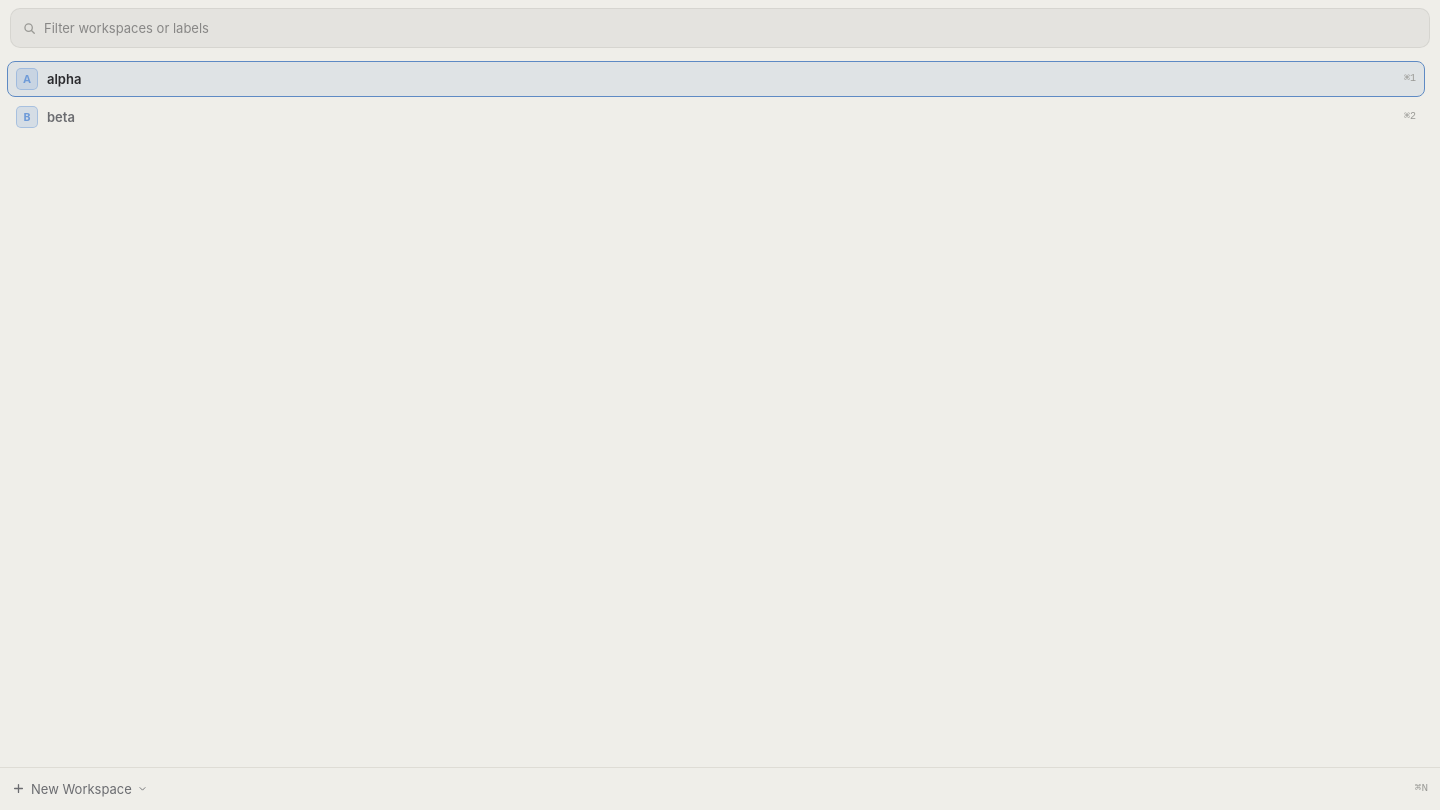
Test case: delete dialog worktree list › says so when the plan cannot be read
Right-click the option with test id "workspace-row" showing "A alpha ⌘1": (64, 79) 8,62 -> 1424,96
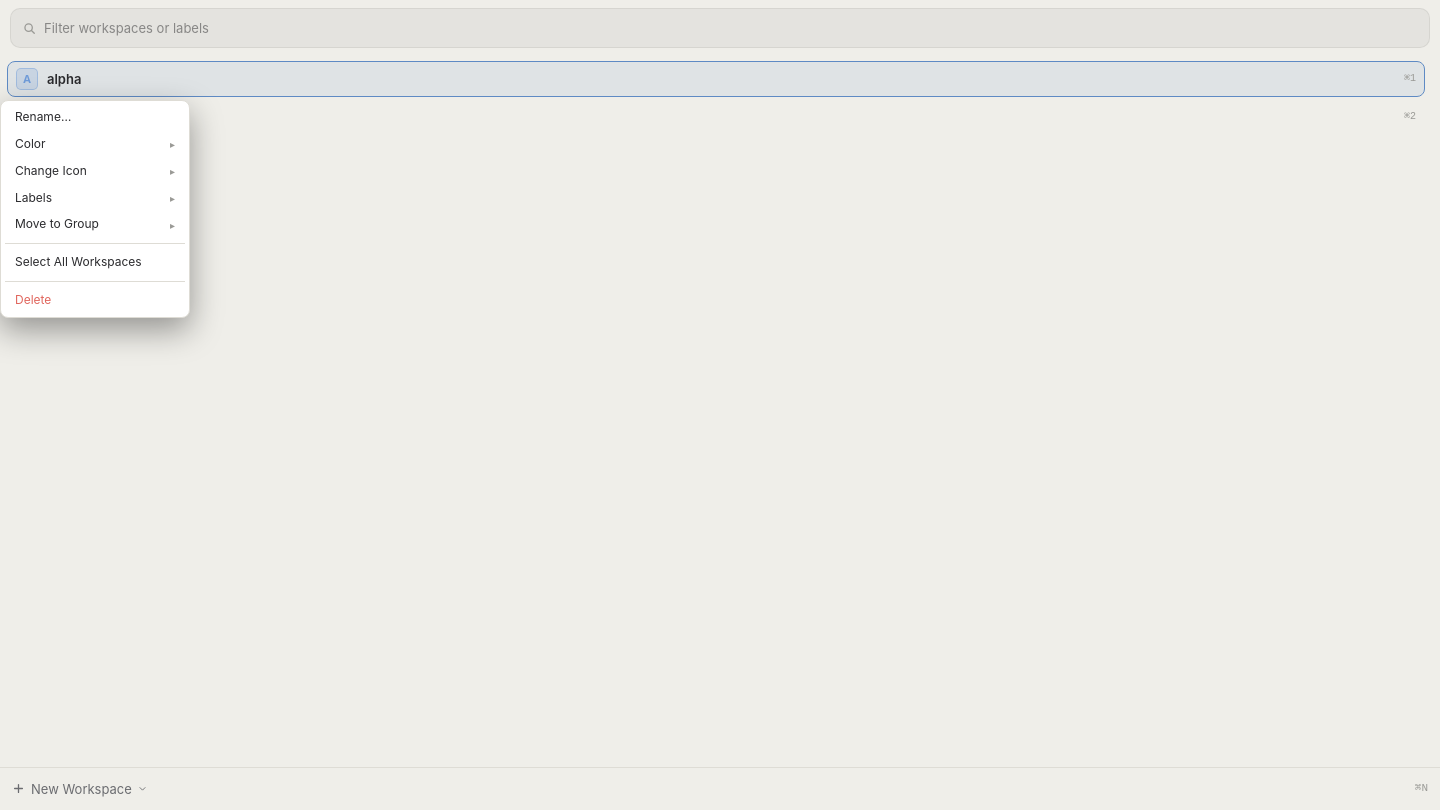
Click the menu item "Delete": (95, 300) 5,288 -> 185,313
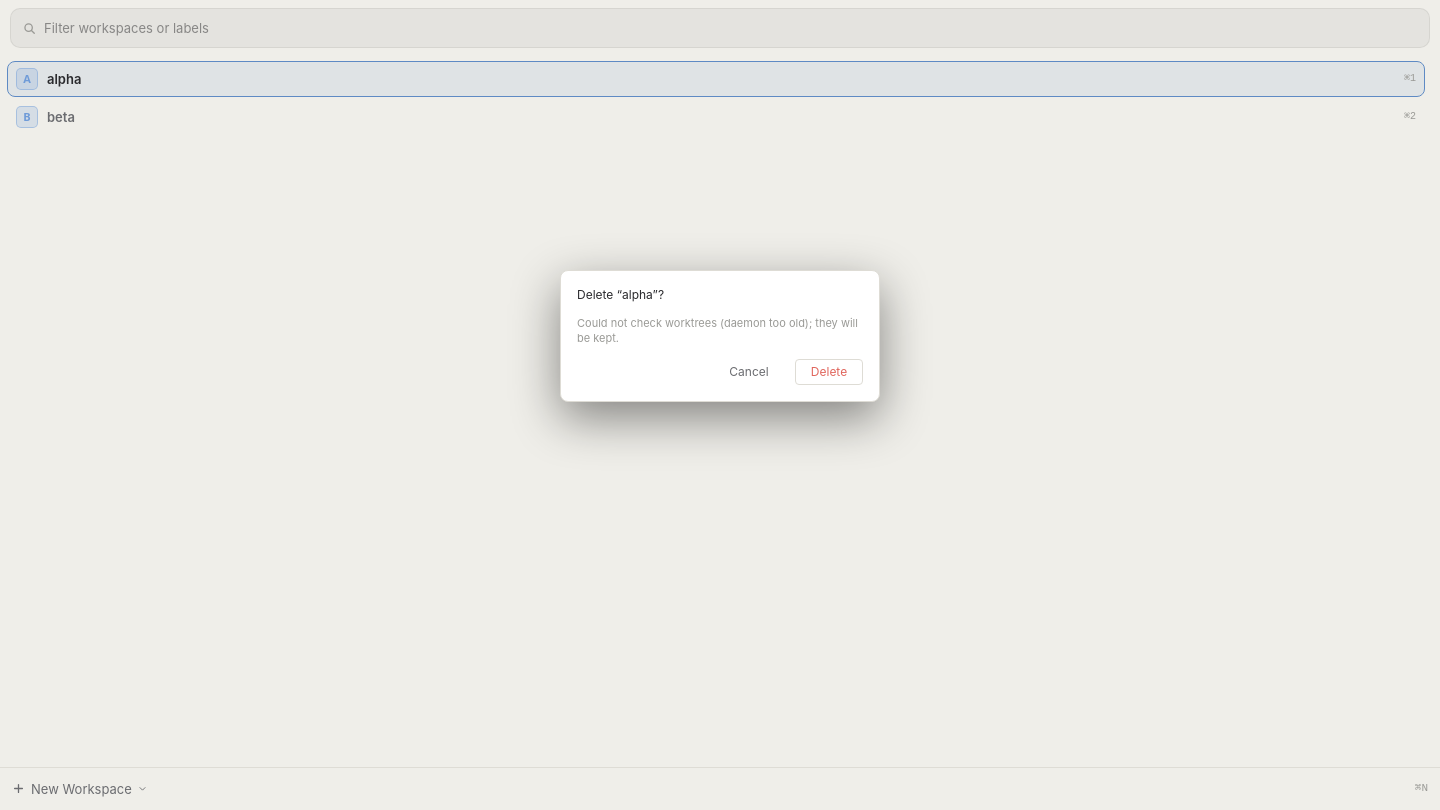
Expected: the text with test id "worktree-cleanup-error" shows "daemon too old", 577,316 -> 858,345
